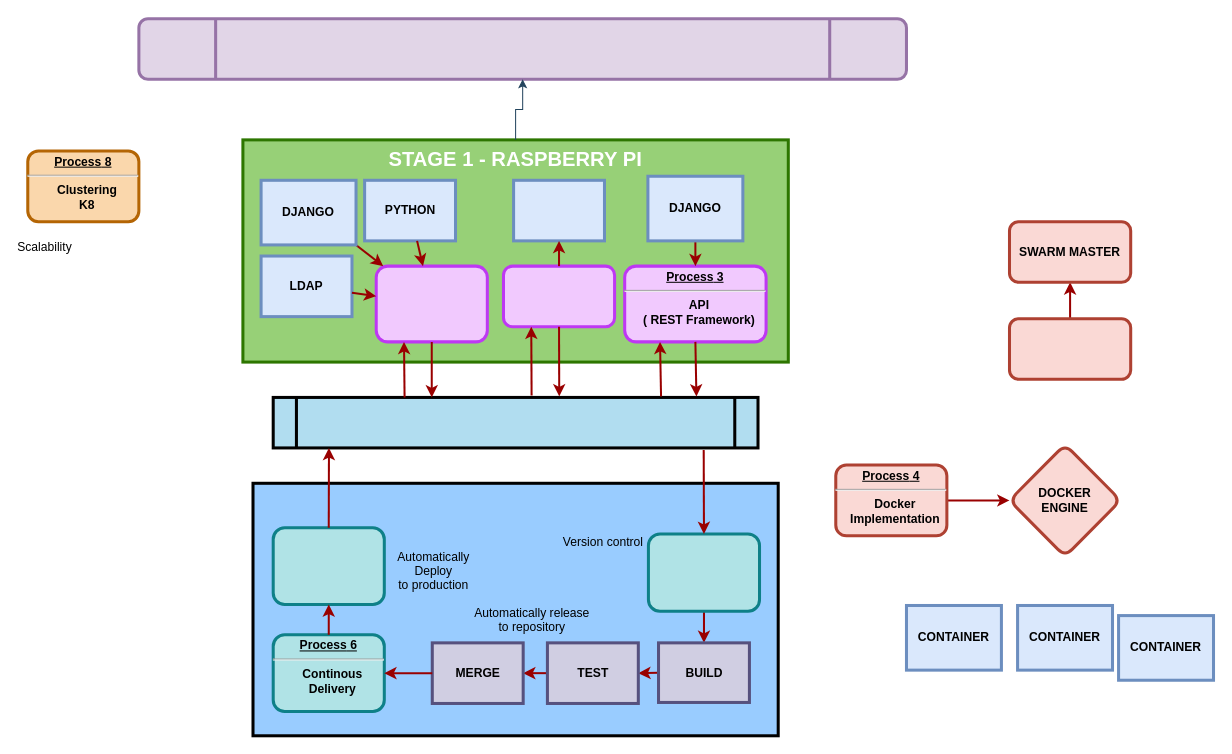
The diagram is 1232 pixels wide and 754 high, and some of its shapes have lost their labels. The box of each missing label's shape, as (x1, y1, x2, y2) in pixels:
2-FACTOR AUTHENTICATION SYSTEM: (271, 395, 759, 449)
CI/CD GITHUB IMPLEMENTATION: (251, 481, 779, 737)
KIVY: (512, 178, 605, 242)
Process 1 Application Development: (374, 264, 488, 343)
Process 2 User Interface: (501, 264, 616, 328)
Process 5 Continous integration: (646, 532, 761, 612)
Process 7 Continous Deployment: (271, 526, 385, 605)
SWARM NODE: (1007, 317, 1132, 380)
USER: (137, 17, 907, 80)
